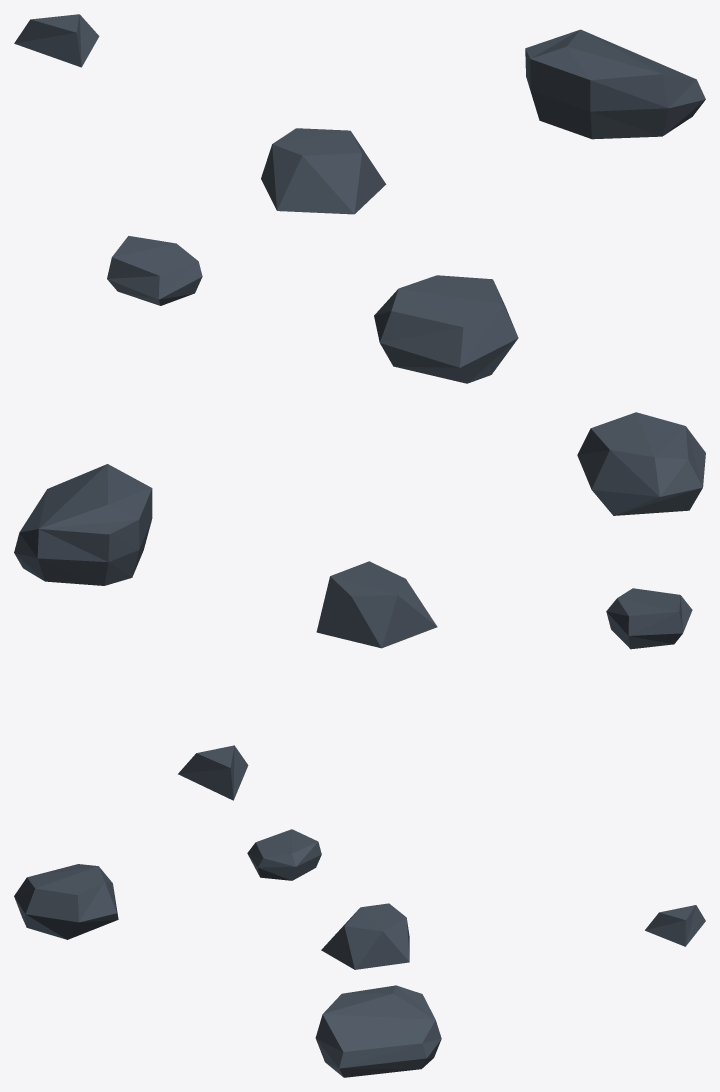
File: TB_Env_Stone_Set1_B.FBX
3 renders of one model, top to bottom at view 1: azimuth 30°, elevation 25°; view 2: azimuth 150°, elevation 25°; view 3: azimuth 270°, elevation 25°, orthographic. The views are drawn at different scales.
Parts seen in each view (by area): view 1: TB_Env_Stone_Set1_B; view 2: TB_Env_Stone_Set1_B; view 3: TB_Env_Stone_Set1_B.
Boxes of the visible parts, bbox=[...] form: TB_Env_Stone_Set1_B: bbox=[14, 14, 705, 383]; TB_Env_Stone_Set1_B: bbox=[14, 412, 705, 800]; TB_Env_Stone_Set1_B: bbox=[14, 829, 705, 1077].
Bounding box in the file's own units: 2.91 × 0.3027 × 3.74.
